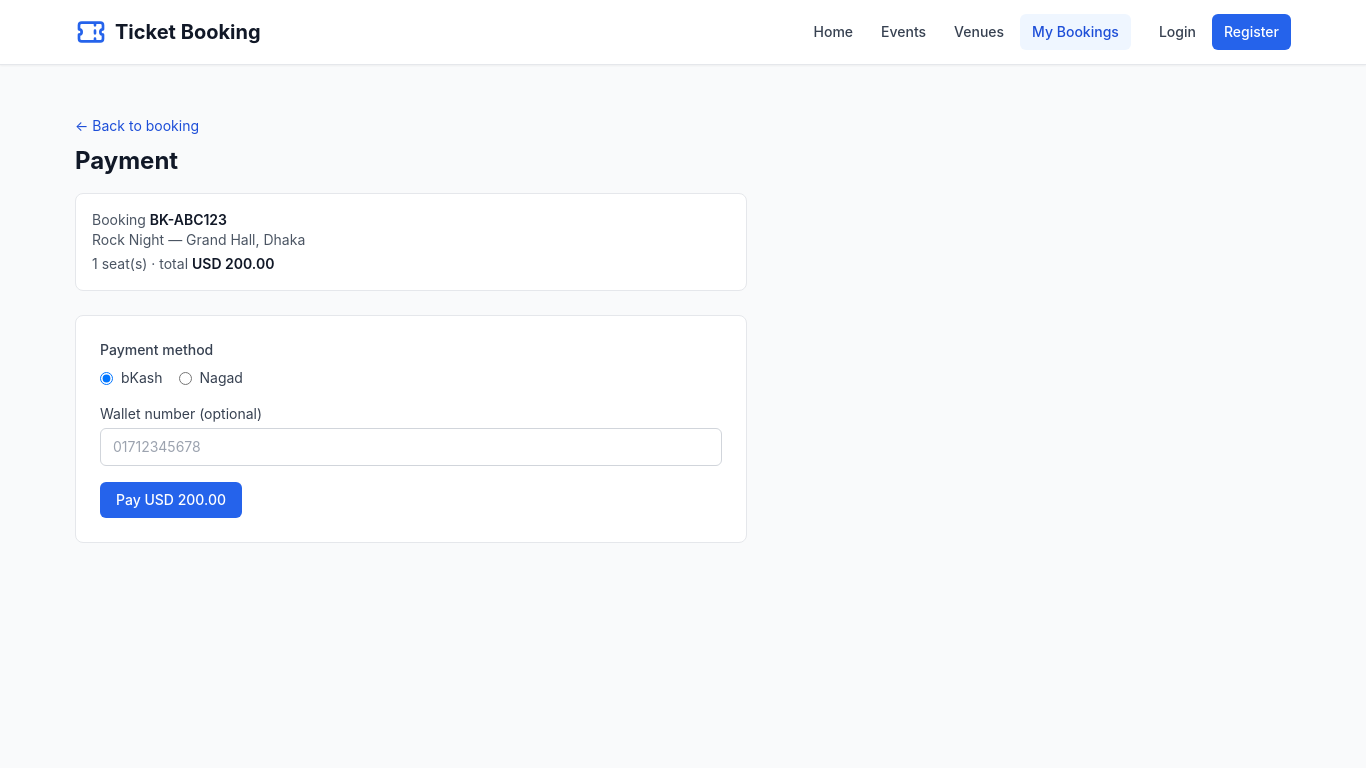
Test: payment page › pays with the selected provider, then polls status to completion
Expected: the text "BK-ABC123" is shown, x1=150 y1=211 x2=227 y2=228
Expected: the button "Pay USD 200.00" is shown, x1=100 y1=482 x2=242 y2=518
Click the radio button with aria-label "Pay with Nagad". click: point(185, 378)
box: x1=178 y1=372 x2=192 y2=384
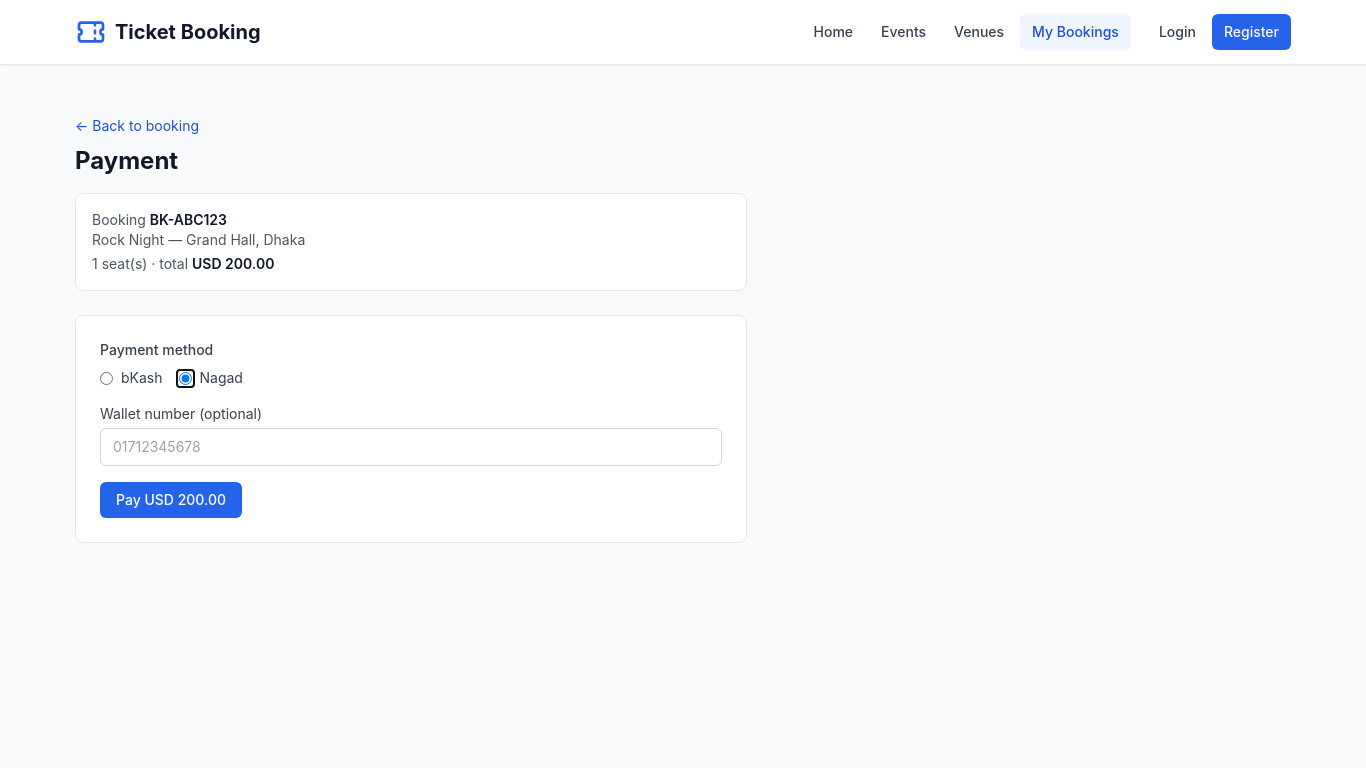
Click the button "Pay USD 200.00". click: point(171, 500)
box: x1=100 y1=482 x2=242 y2=518
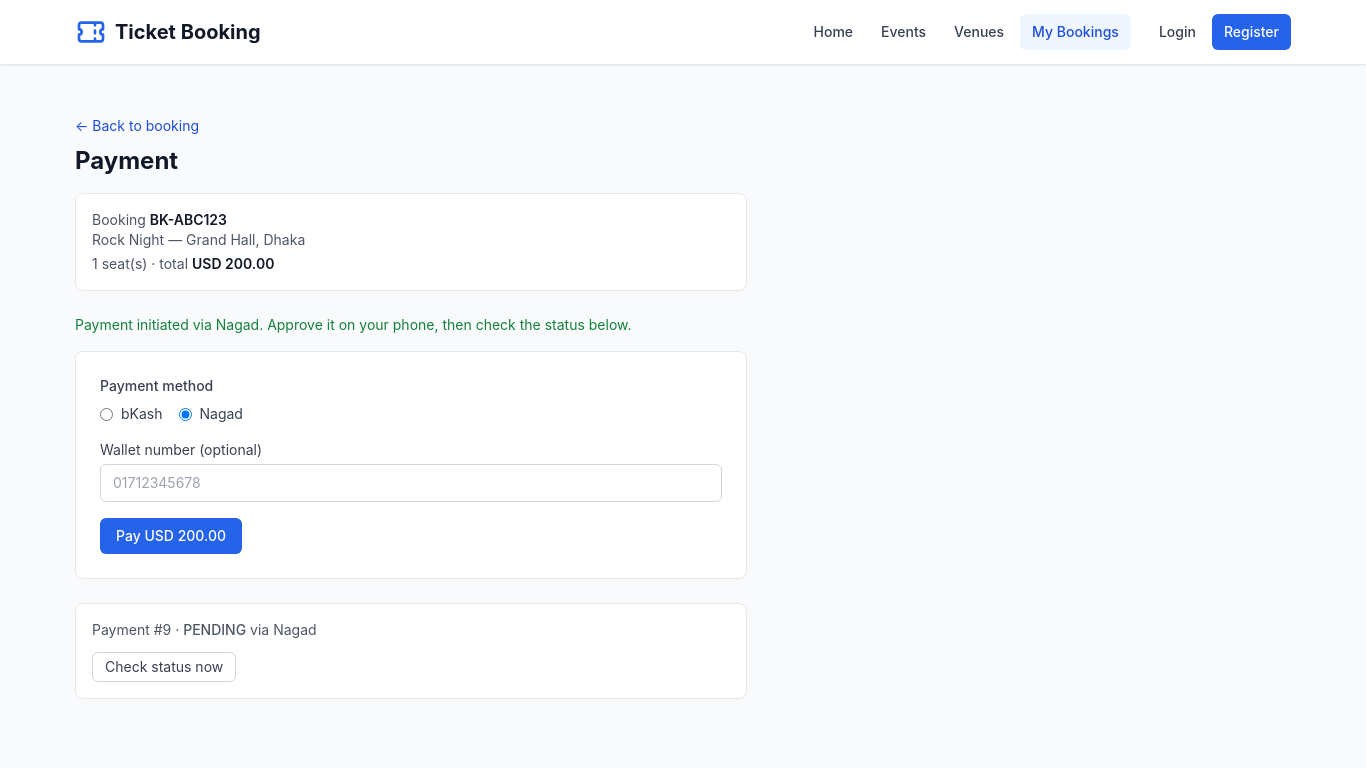
Result: the text "Payment initiated via Nagad" is shown at x1=75 y1=316 x2=632 y2=333
Manual status check (the 3s poll hits the same endpoint).
Click the button "Check status now". click: point(164, 667)
box: x1=92 y1=652 x2=236 y2=682
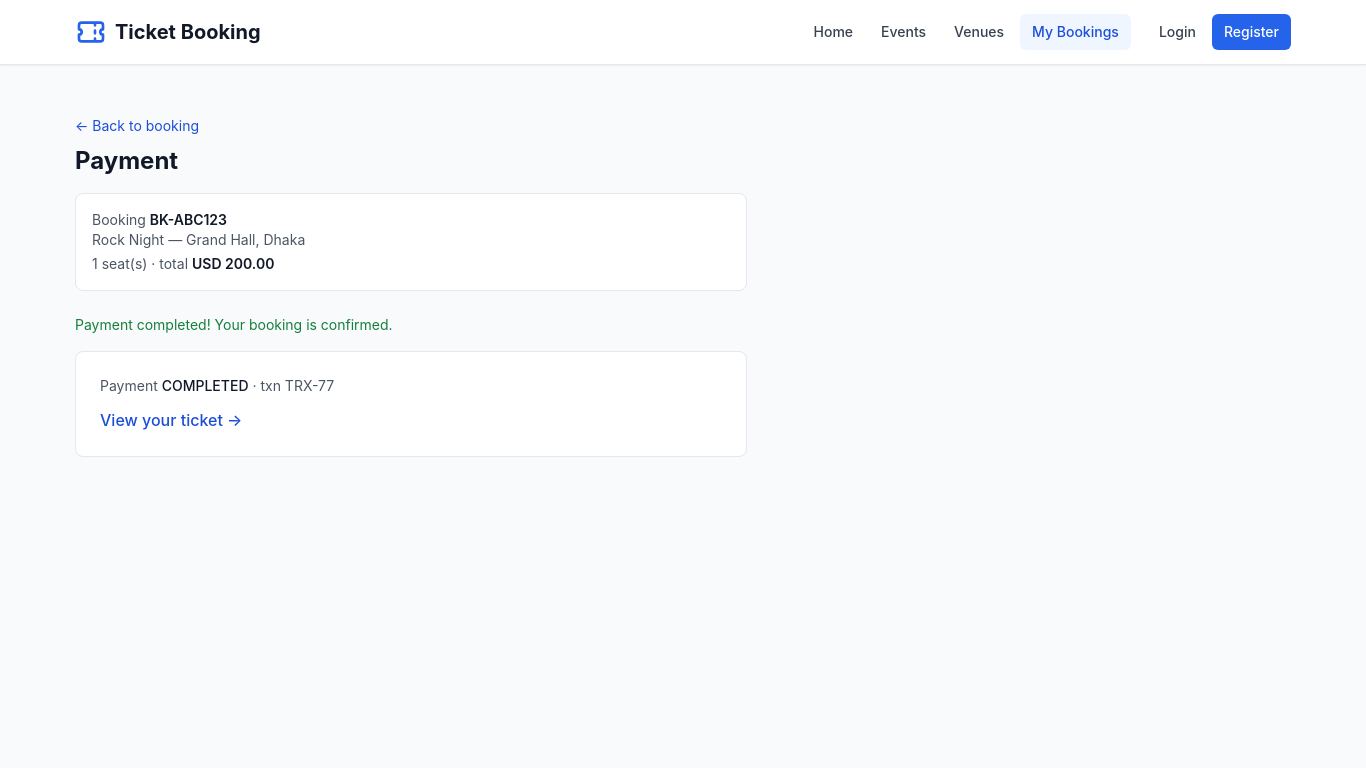
Result: the text "Payment completed! Your booking is confirmed." is shown at x1=75 y1=316 x2=393 y2=333
